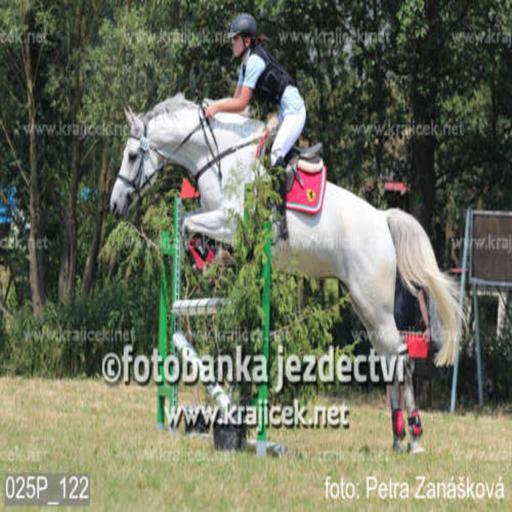Horse: (109, 92, 471, 457)
